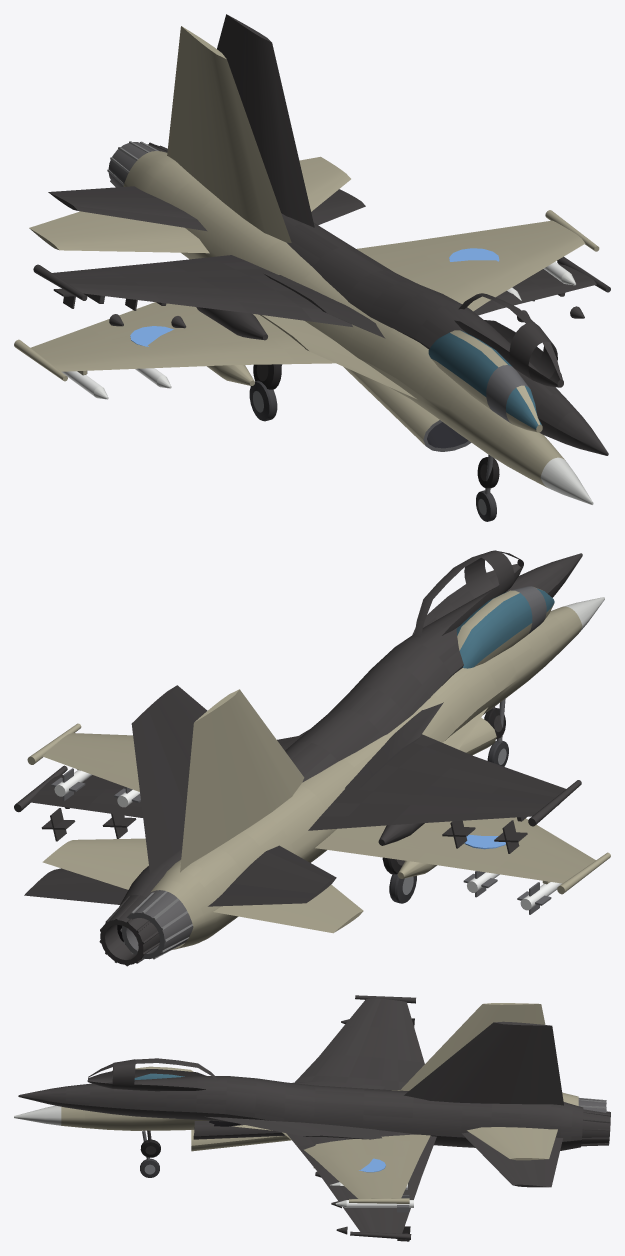
The model's file is lightFighter__f_16c.glb.
3 views of the same model, one above another, from view 1: azimuth 30°, elevation 25°; view 2: azimuth 150°, elevation 25°; view 3: azimuth 270°, elevation 25° (orthographic). The views are drawn at different scales.
Parts seen in each view (by area): view 1: Fuselage_Mesh, Wreck; view 2: Fuselage_Mesh, Wreck; view 3: Wreck, Fuselage_Mesh.
Boxes of the visible parts, left/top/right/bottom form: Fuselage_Mesh: left=14, top=26, right=599, bottom=521; Wreck: left=33, top=14, right=610, bottom=488; Fuselage_Mesh: left=27, top=586, right=610, bottom=959; Wreck: left=14, top=550, right=582, bottom=966; Wreck: left=18, top=995, right=610, bottom=1241; Fuselage_Mesh: left=14, top=1003, right=606, bottom=1212.
Size of what is drawn, in the model's own units: 10.4 by 4.88 by 15.21.
